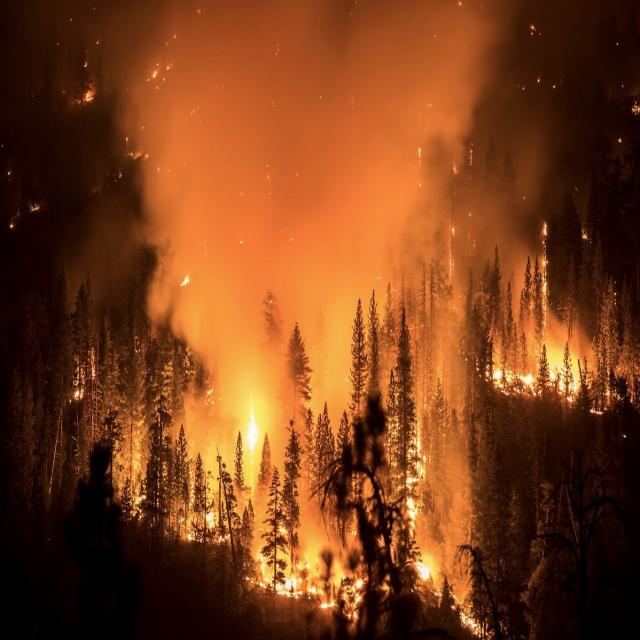Fire: (215, 509, 339, 612), (497, 350, 582, 399), (401, 480, 435, 590), (230, 408, 270, 469)
Smoke: (119, 2, 467, 344)
